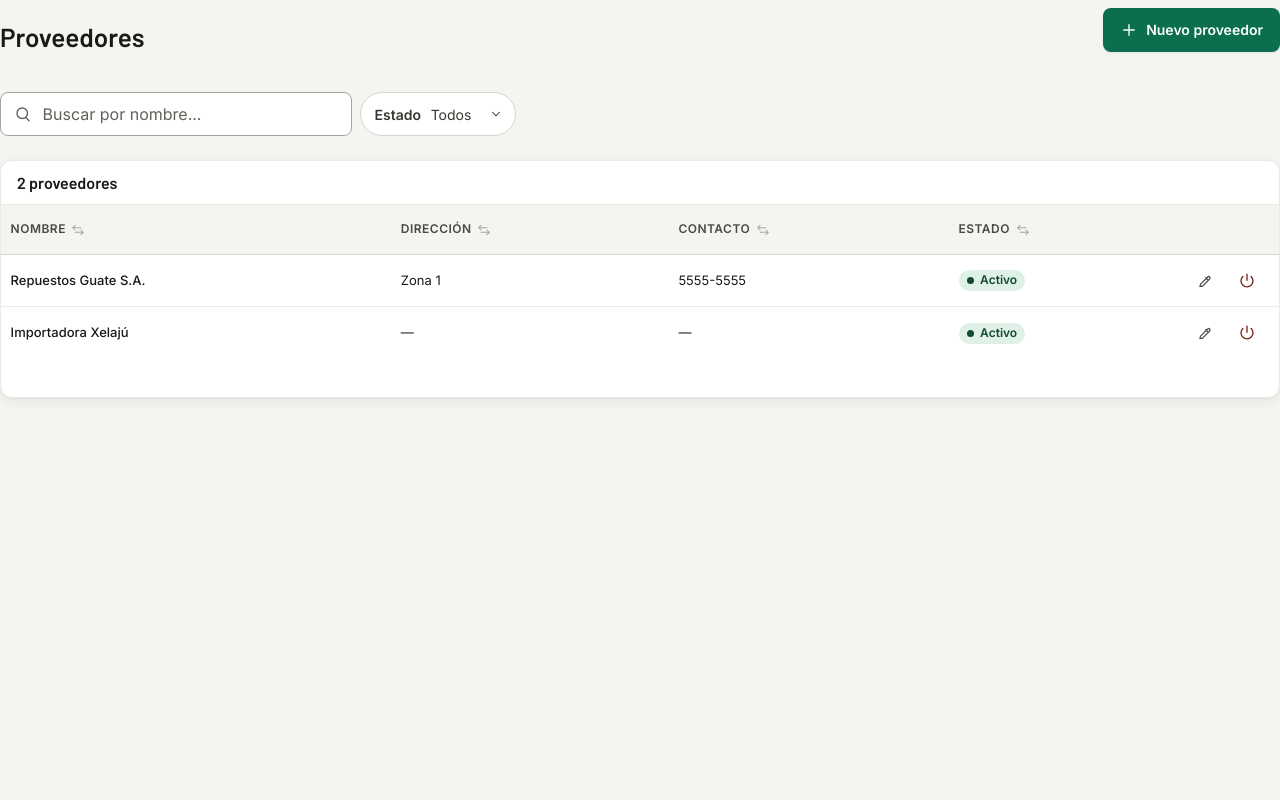
Test: ProveedoresPage › da de baja un proveedor tras confirmar
The image size is (1280, 800).
Step 1. Click the button named "dar de baja" in the row of "Repuestos Guate S.A." → (1247, 281), box [1225, 259, 1269, 303]
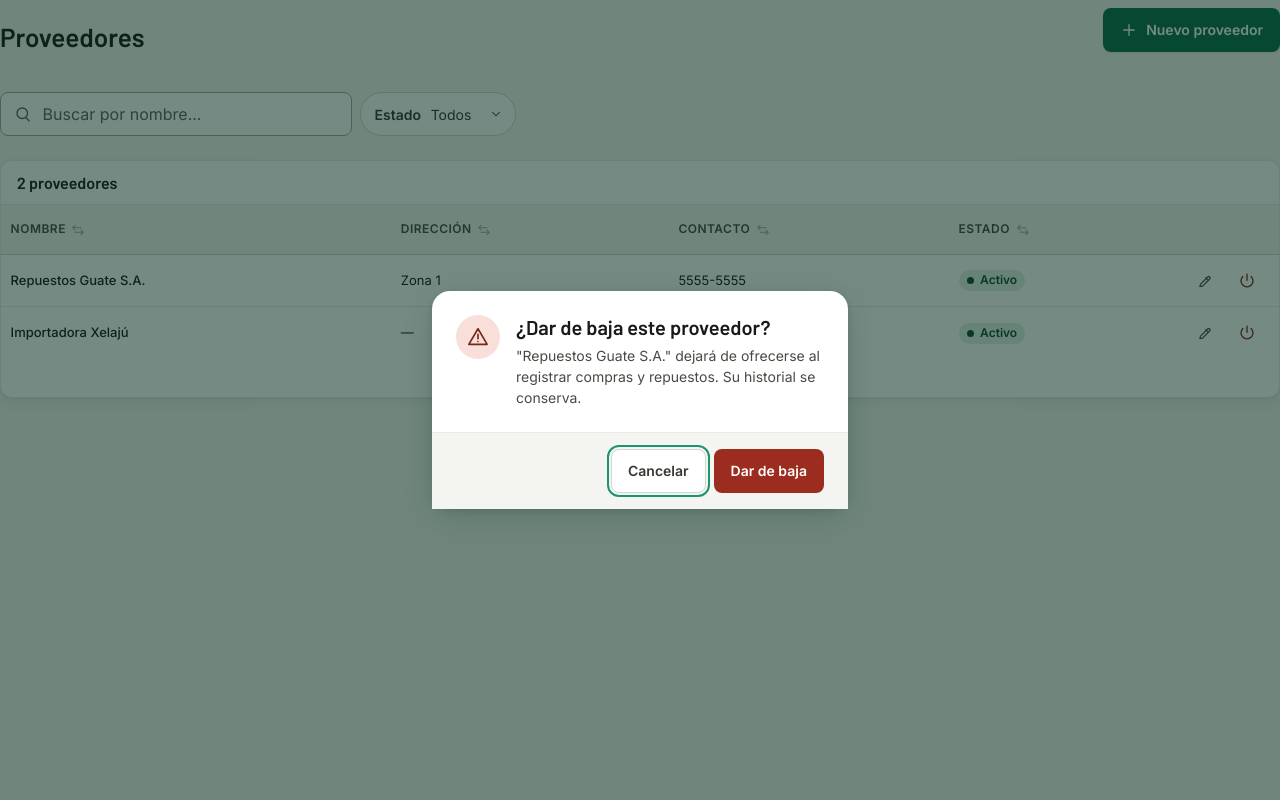
Step 2. Click the button "Dar de baja" → (769, 471), box [714, 449, 824, 493]
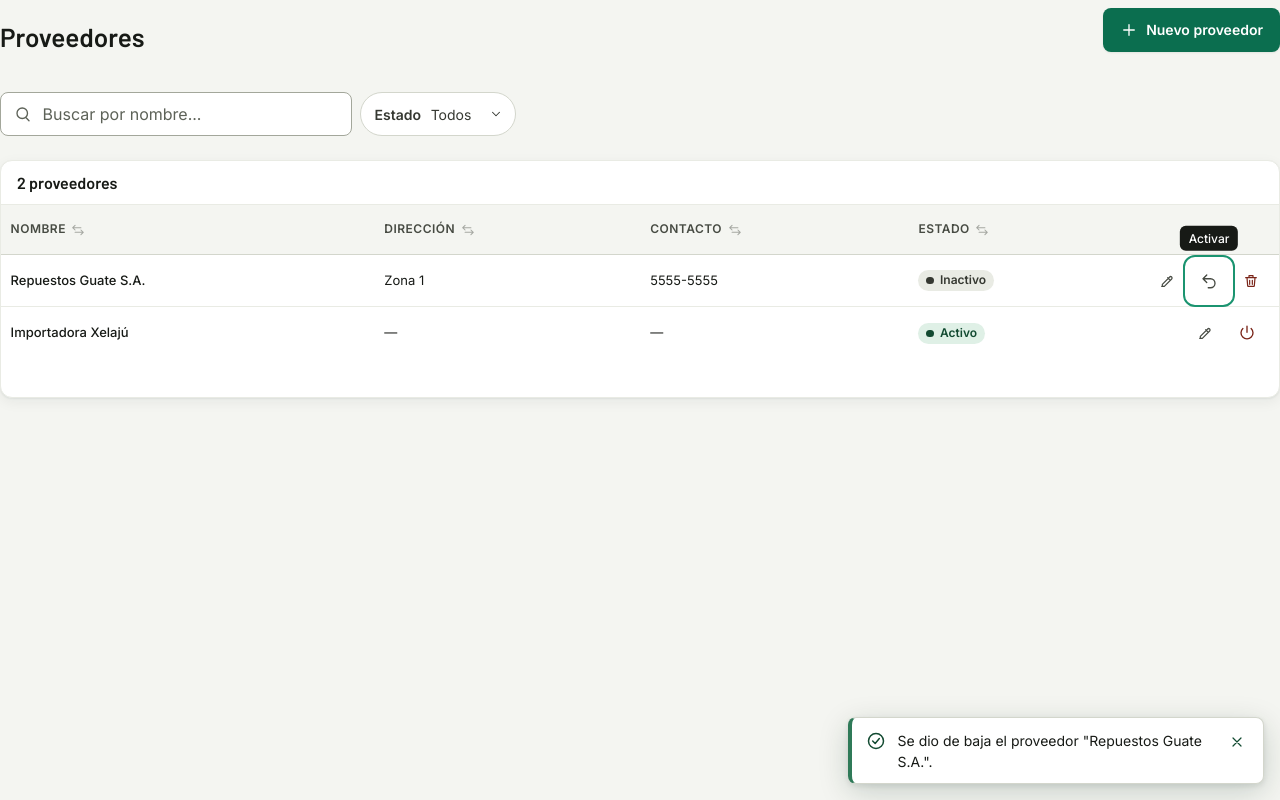
expect the text "Se dio de baja el proveedor \"Repuestos Guate S.A.\"." is shown: met, box [898, 729, 1208, 772]
